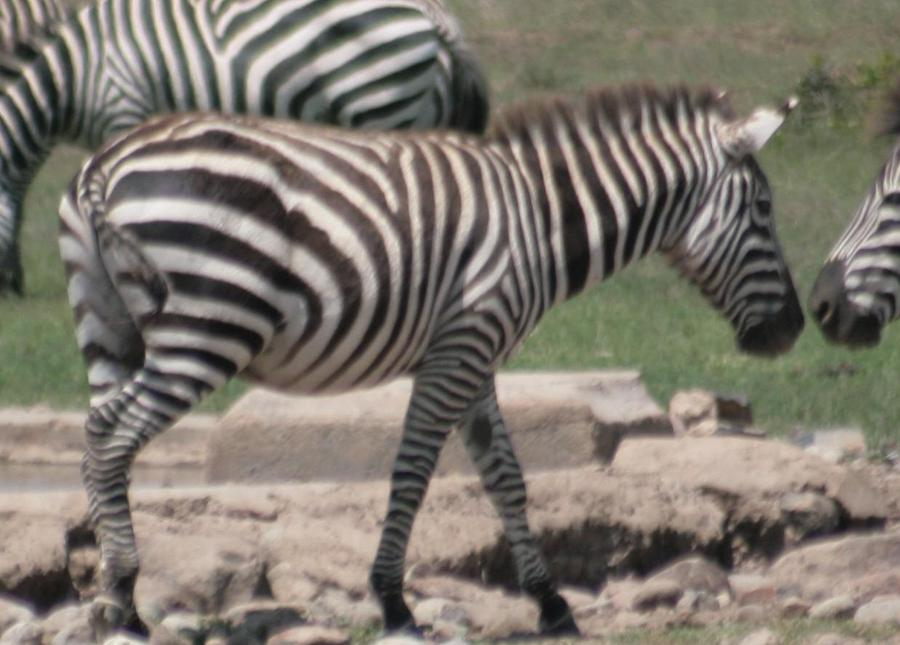zebra_plains: (73, 78, 566, 450)
